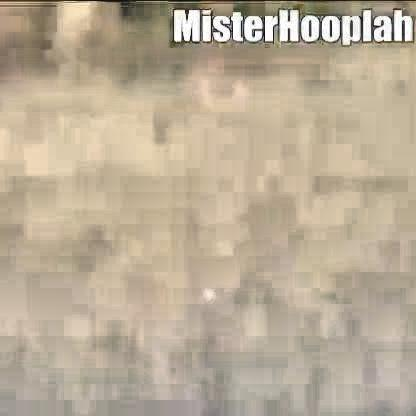golfball: (201, 283, 212, 296)
